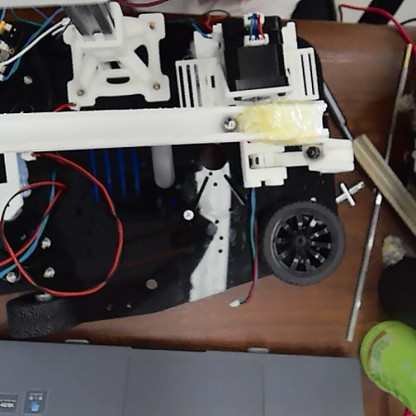ironball: (219, 114, 241, 133)
